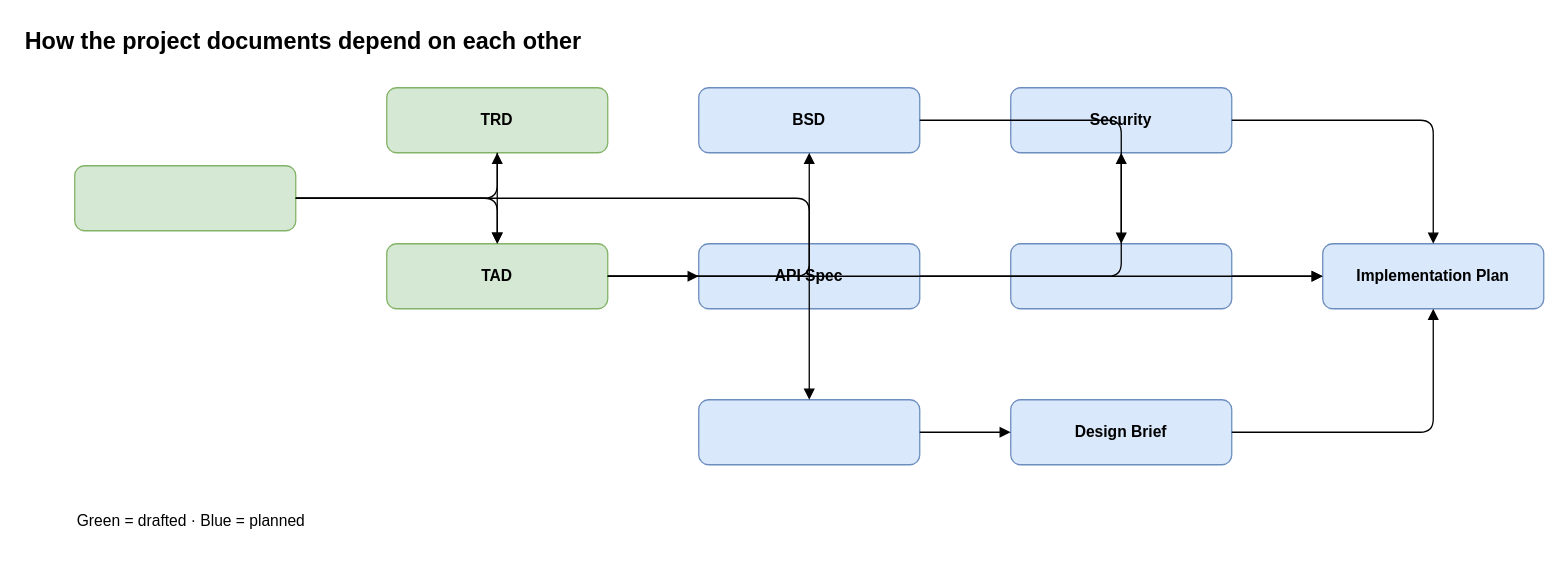
The diagram is 1567 pixels wide and 564 high, and some of its shapes have lost their labels. Here are the shapes that lost their labels. From the top down, the centre of each, then its label:
At pixel 184 197: "PRD".
At pixel 1120 275: "Migration".
At pixel 808 431: "APD".
